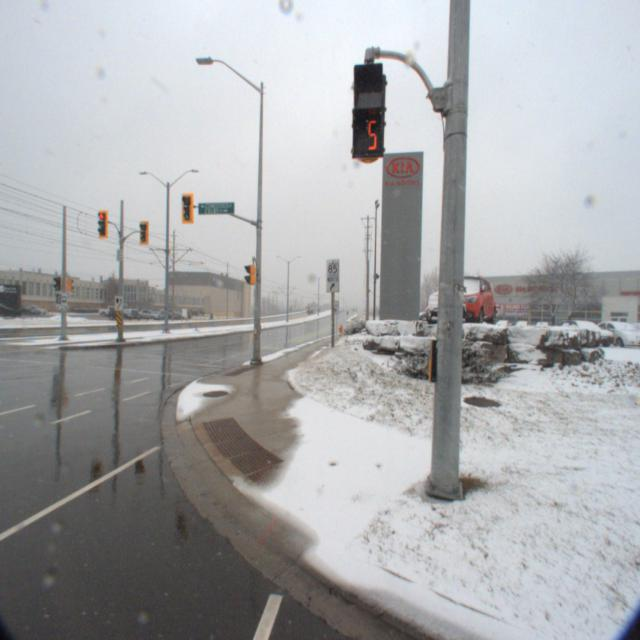Car: (414, 266, 496, 331), (545, 317, 613, 347), (489, 317, 509, 331)
